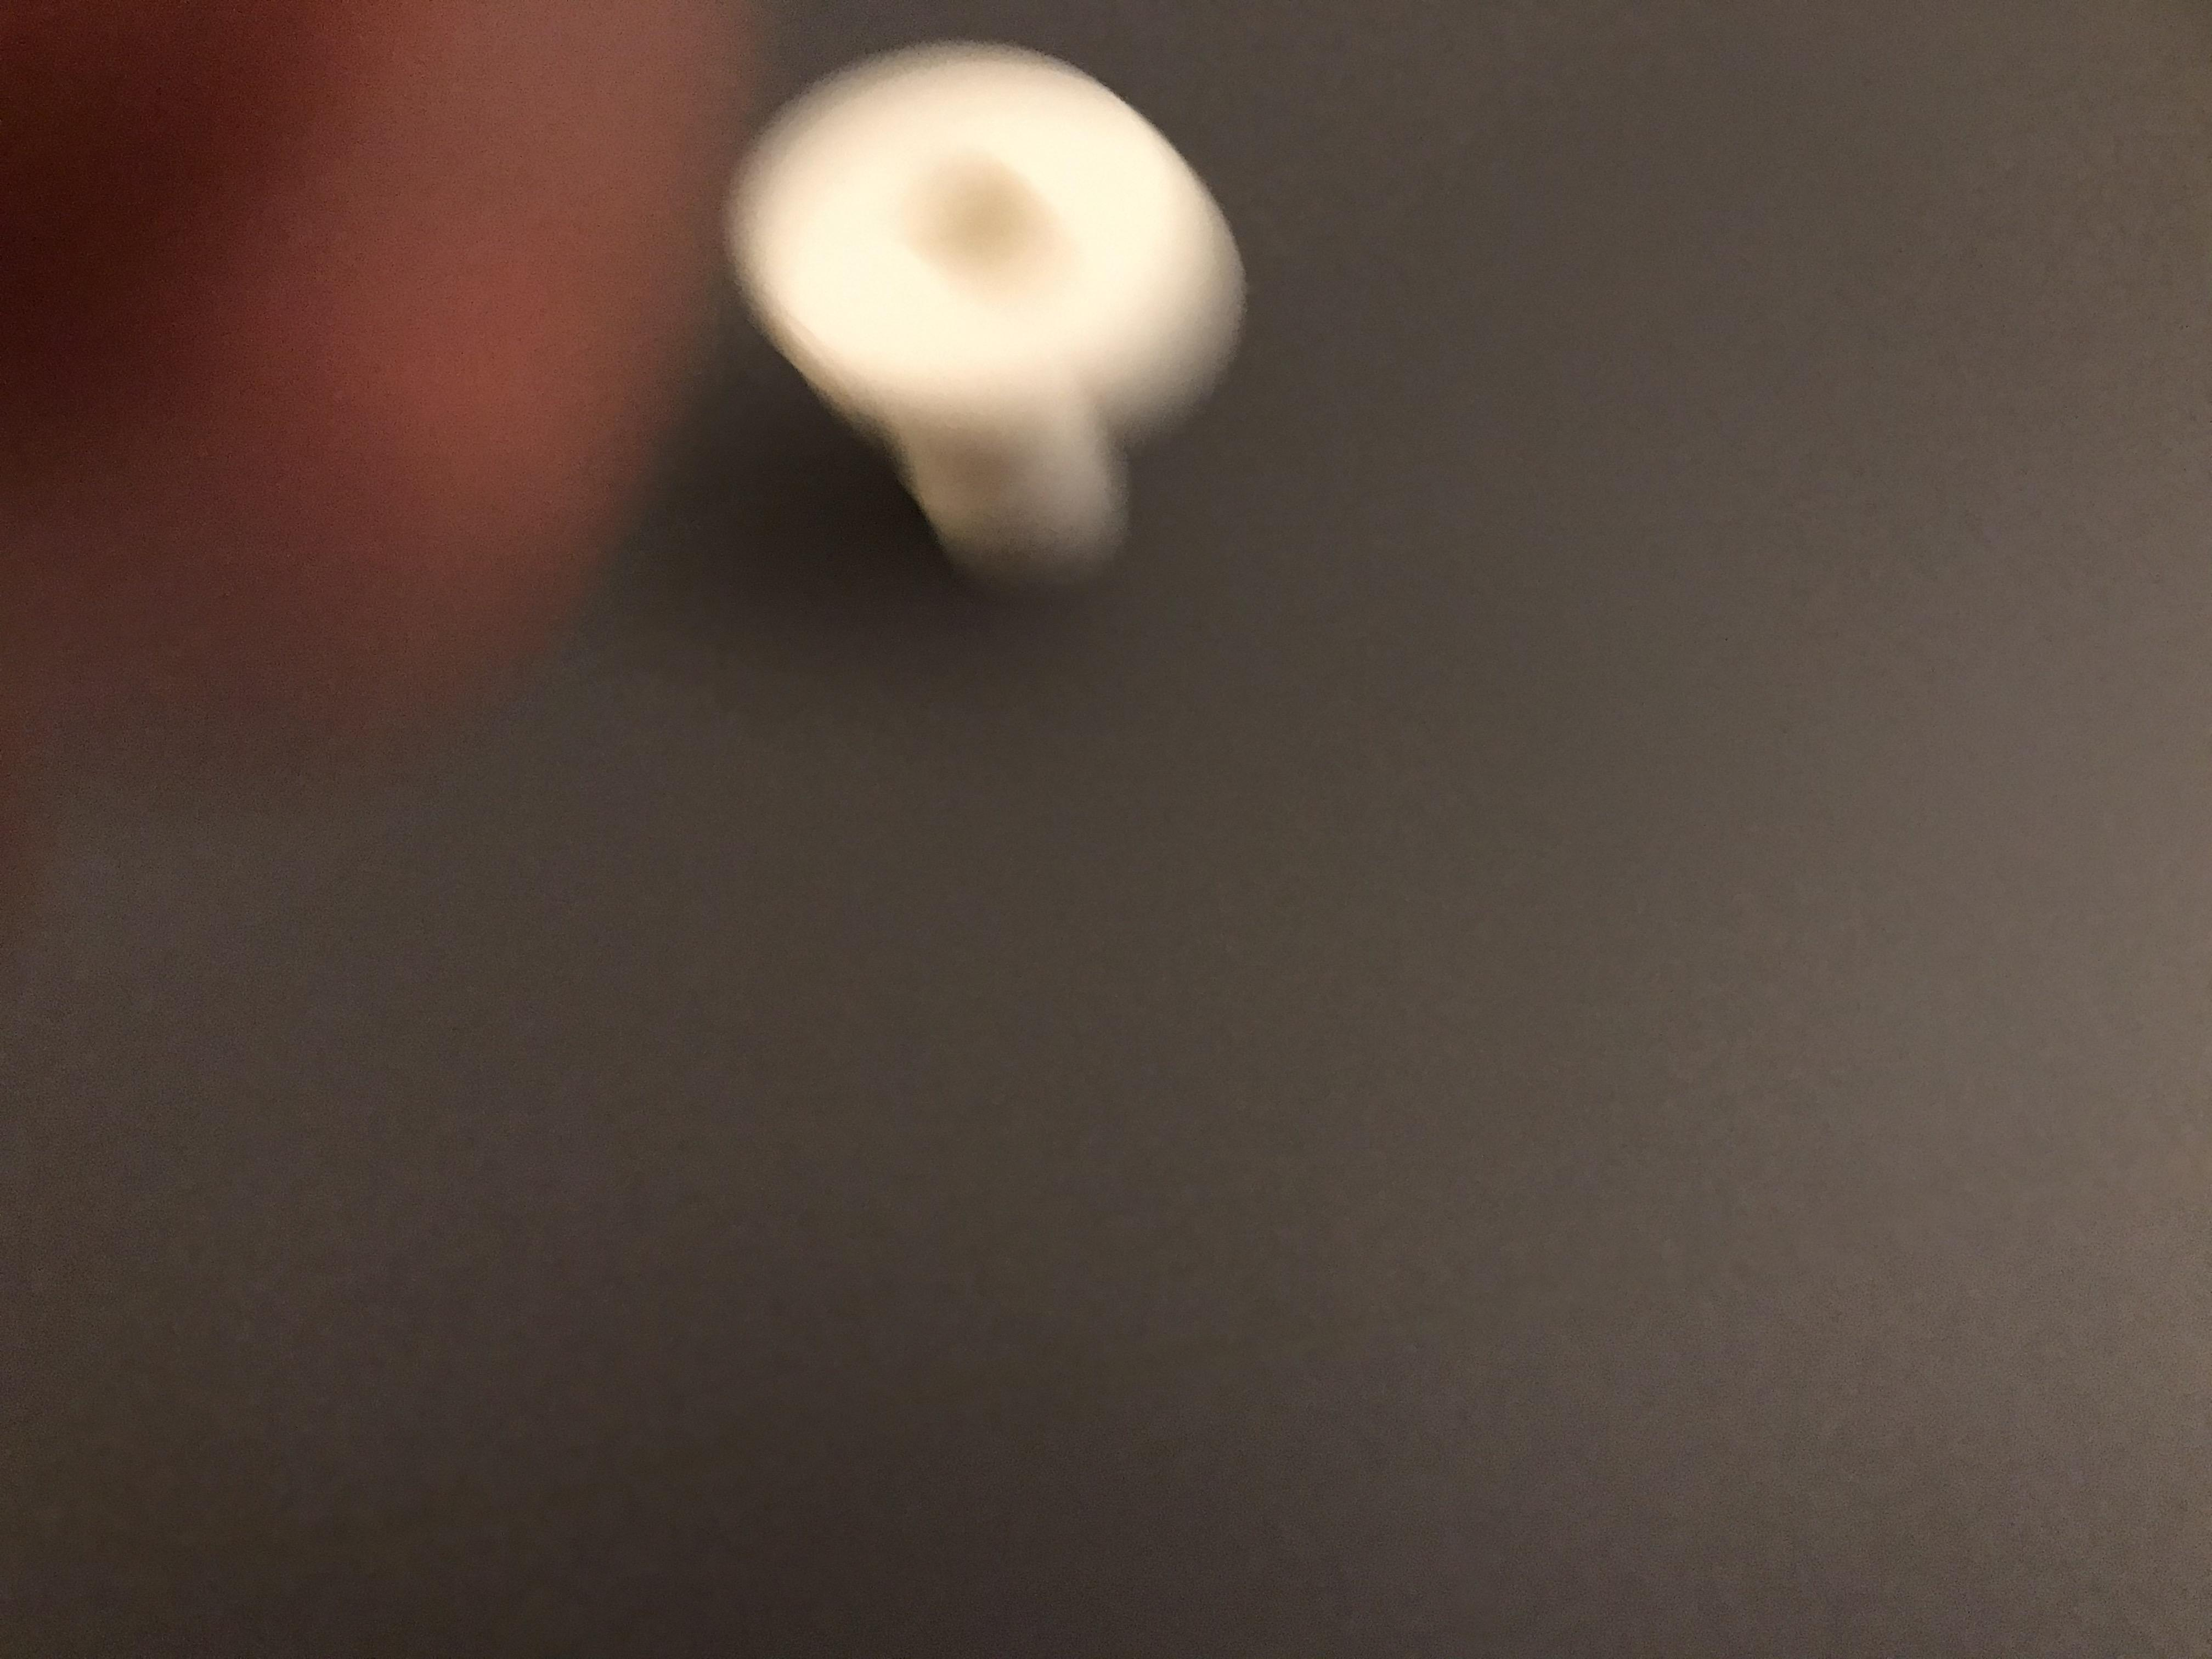White Cone: (726, 45, 1244, 599)
